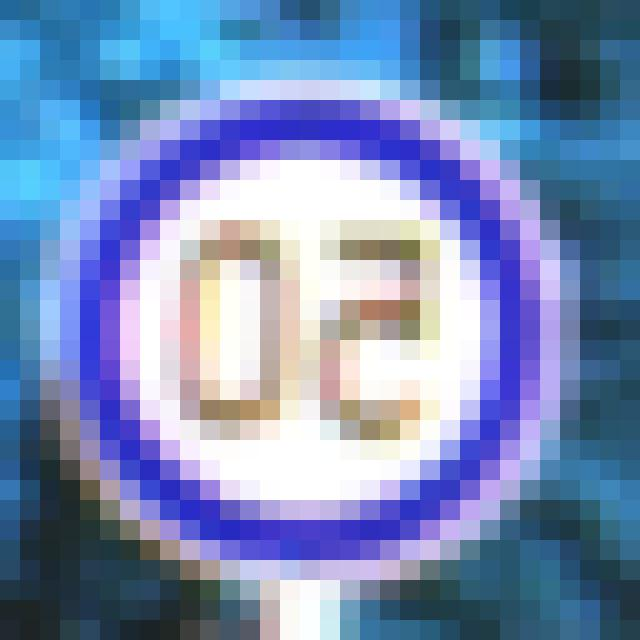SPEED LIMIT 50: (90, 110, 540, 556)
